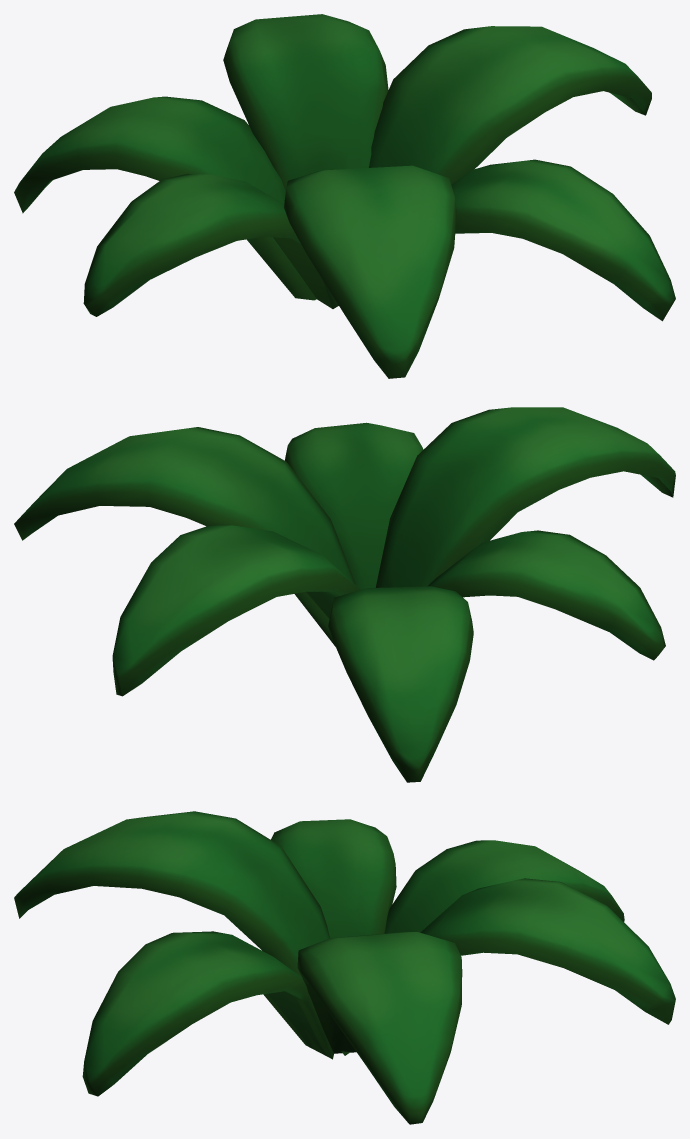
Rendered from S_BushSimple.fbx.
3 renders of one model, top to bottom at view 1: azimuth 30°, elevation 25°; view 2: azimuth 150°, elevation 25°; view 3: azimuth 270°, elevation 25°, orthographic. The views are drawn at different scales.
Parts seen in each view (by area): view 1: S_BushSimple; view 2: S_BushSimple; view 3: S_BushSimple.
Part boxes in pixels (left/top/right/bottom): S_BushSimple: left=14, top=14, right=675, bottom=378; S_BushSimple: left=14, top=407, right=675, bottom=782; S_BushSimple: left=14, top=811, right=675, bottom=1124.
Bounding box in the file's own units: 127 × 39.62 × 126.
